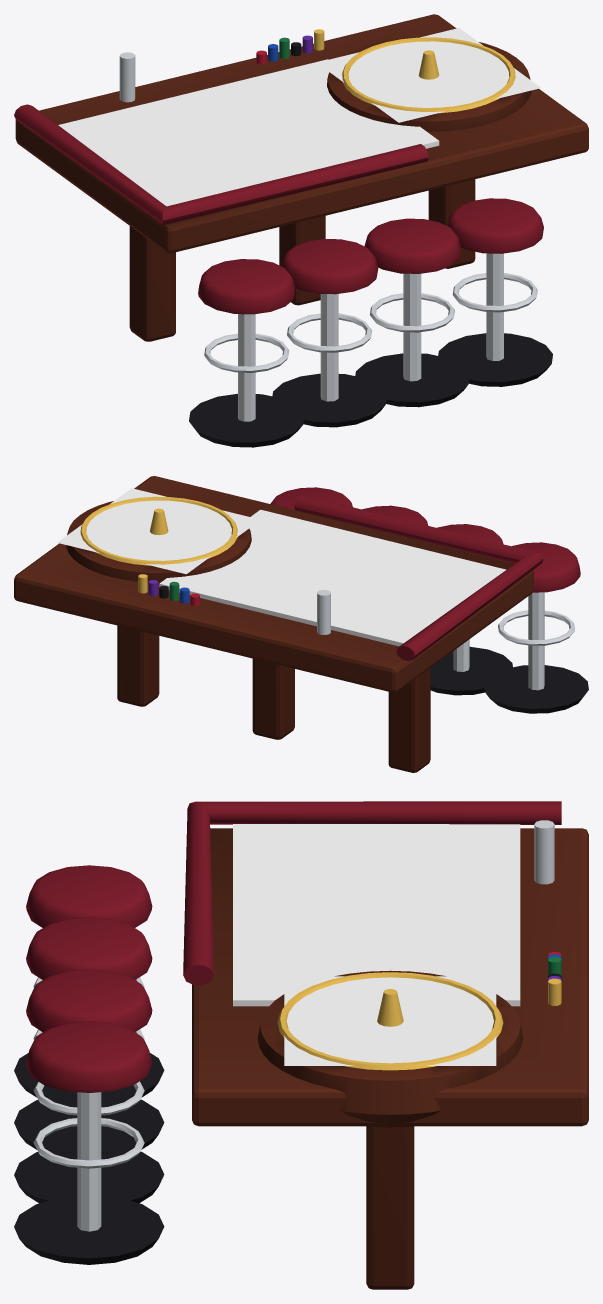
The model's file is table-roulette.glb.
3 renders of one model, top to bottom at view 1: azimuth 30°, elevation 25°; view 2: azimuth 150°, elevation 25°; view 3: azimuth 270°, elevation 25°, orthographic. The views are drawn at different scales.
Visible parts, largest first — view 1: table-roulette_lod0; view 2: table-roulette_lod0; view 3: table-roulette_lod0.
Boxes of the visible parts, x1,y1,x2,y2 form: table-roulette_lod0: (14,14,588,447); table-roulette_lod0: (14,476,588,772); table-roulette_lod0: (14,801,588,1289).
Size of what is drawn, in the model's own units: 1.92 by 0.9399 by 1.68.
